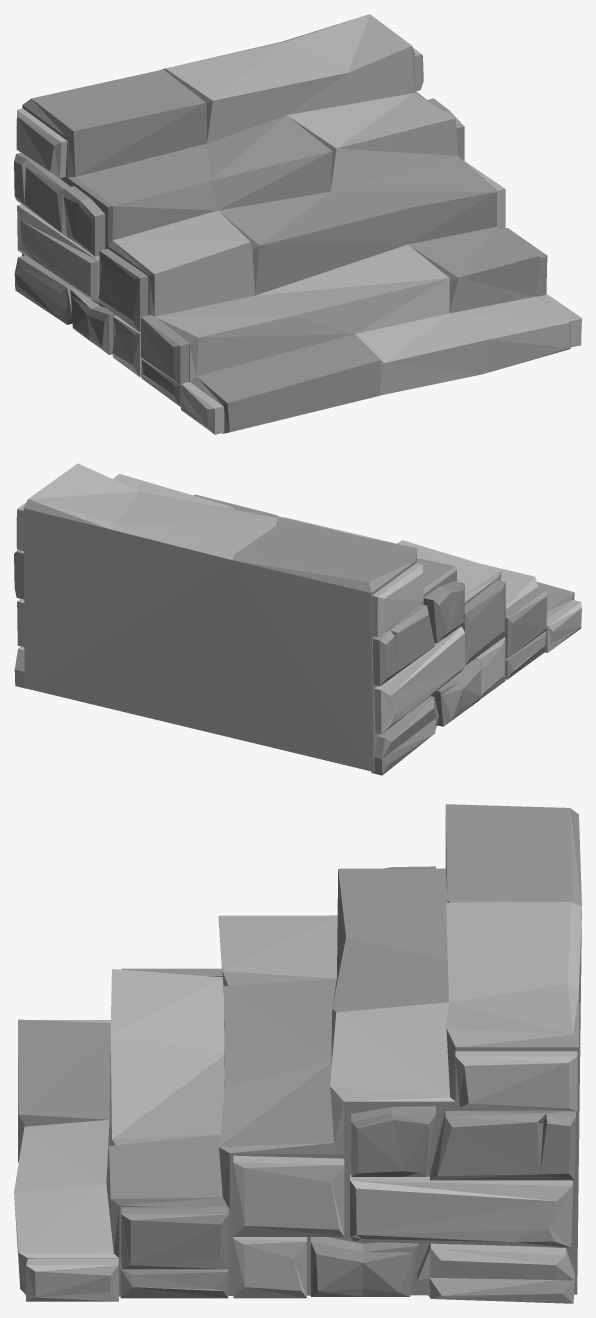
The model's file is _STAIRS_06_1.fbx.
The picture shows the model from 3 angles, top to bottom: view 1: azimuth 30°, elevation 25°; view 2: azimuth 150°, elevation 25°; view 3: azimuth 270°, elevation 25°; orthographic projection. The views are drawn at different scales.
Visible parts, largest first — view 1: STAIRS_06_1; view 2: STAIRS_06_1; view 3: STAIRS_06_1.
Boxes of the visible parts, x1=… form: STAIRS_06_1: x1=14, y1=14, x2=581, y2=434; STAIRS_06_1: x1=14, y1=463, x2=581, y2=775; STAIRS_06_1: x1=14, y1=804, x2=581, y2=1303.
Bounding box in the file's own units: 109 × 53.34 × 103.
